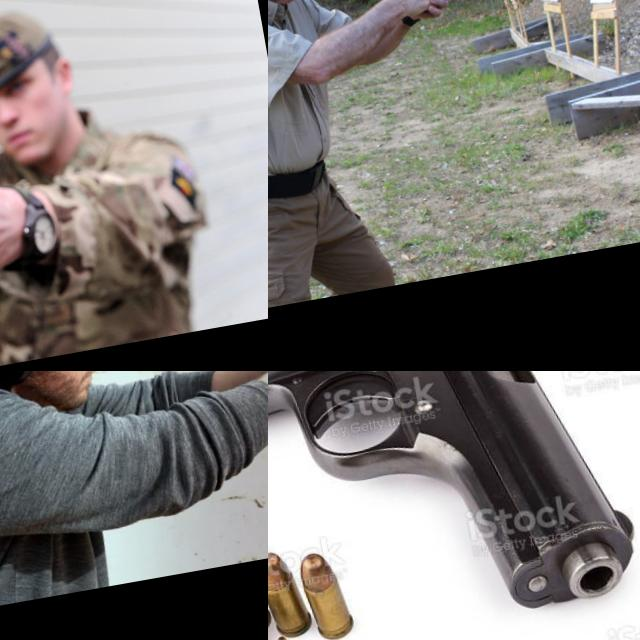handgun: (268, 371, 640, 640), (0, 90, 95, 251), (400, 0, 481, 23)
